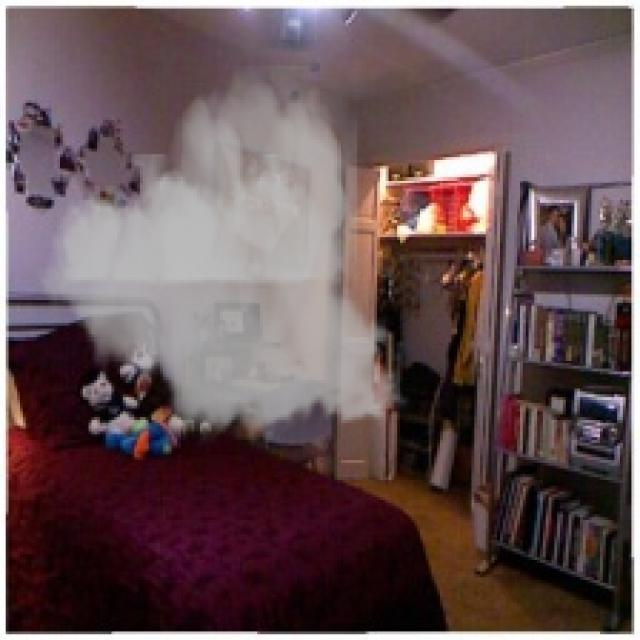Smoke: (29, 66, 418, 448)
